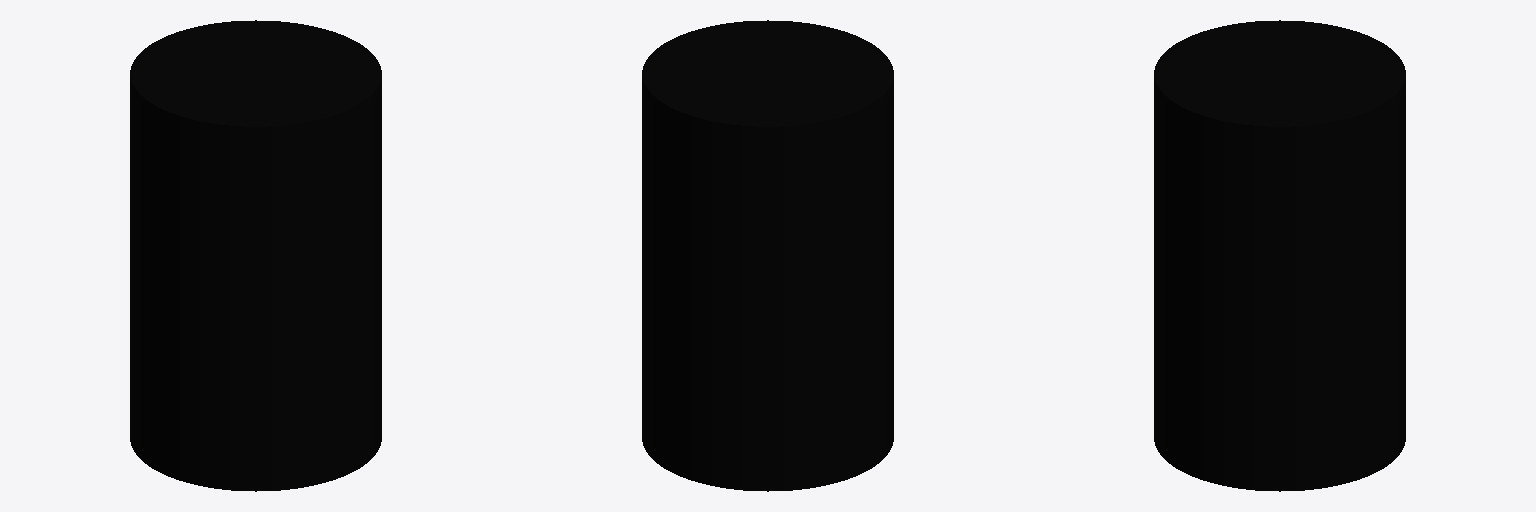
URDF robot description (luxtac_cylinder_vert):
<?xml version="1.0"?>
<!-- cylinder, long axis at 0 deg in the pad plane.
     Generated by scripts/make_luxtac_objs.py. Metres, centred on x,y, cross-section
     centre at z = 0.0452 (the pad centre once staged). Long axis at 0 deg in
     the x-z plane: 0 = along the finger, 90 = across it. Length 40mm,
     mass 1.500000 kg.

     The link is named 'cube' because TacSL resolves the indenter link by name. -->
<robot name="luxtac_cylinder_vert">
    <link name="cube">
        <visual>
            <geometry><mesh filename="../mesh/luxtac_cylinder_vert.obj"/></geometry>
            <material name="black"><color rgba="0.05 0.05 0.05 1"/></material>
        </visual>
        <collision>
            <geometry><mesh filename="../mesh/luxtac_cylinder_vert.obj"/></geometry>
            <sdf resolution="256"/>  <!-- 0.156mm voxels -->
        </collision>
        <inertial>
            <origin rpy="0 0 0" xyz="0 0 0.0452"/>
            <mass value="1.500000"/>
            <inertia ixx="2.585519e-04" ixy="0" ixz="0" iyy="2.585519e-04" iyz="0" izz="1.171039e-04"/>
        </inertial>
    </link>
</robot>

--- What the picture shows (computed from the rendered views, not written in the file) ---
3 views of the same robot in one strip: view 1: azimuth 30°, elevation 25°; view 2: azimuth 150°, elevation 25°; view 3: azimuth 270°, elevation 25° (orthographic).
Robot: luxtac_cylinder_vert — 1 links, 0 joints (none); root link cube; default pose: all joints at 0.
Visible links, largest first — view 1: cube; view 2: cube; view 3: cube.
Link boxes in pixels (bbox=[...]): cube: bbox=[130, 20, 381, 491]; cube: bbox=[642, 20, 893, 491]; cube: bbox=[1154, 20, 1405, 491].
Size in the robot's own frame: 0.025 by 0.025 by 0.04 metres.
Meshes: 1 distinct files referenced, 1 mesh visuals loaded (1 OBJ).
